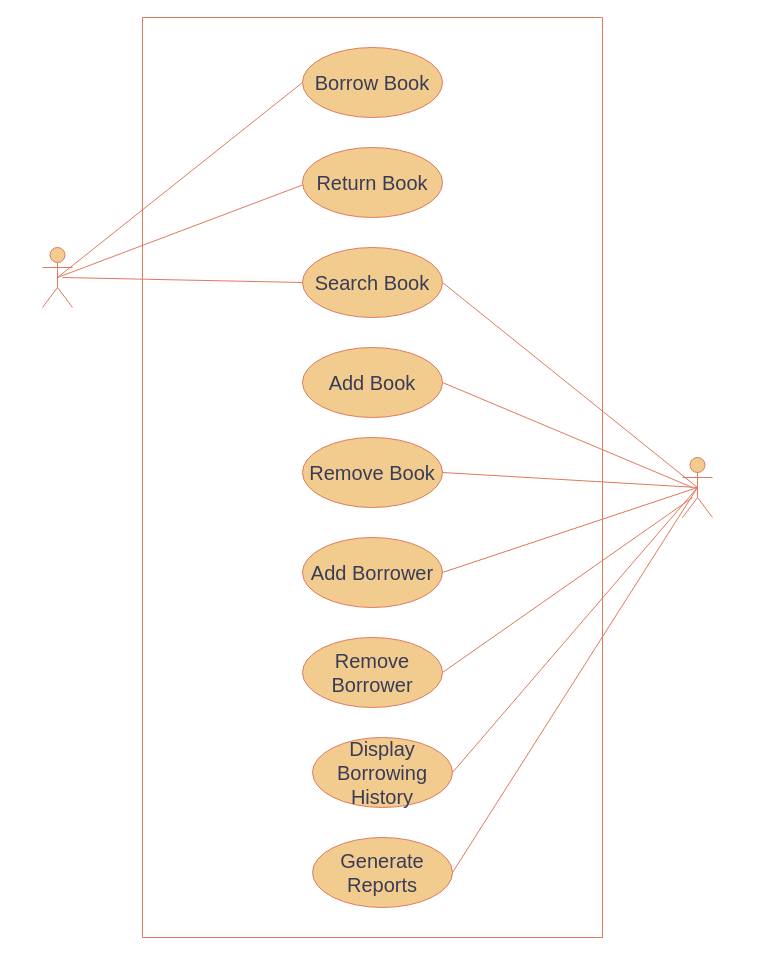
Some shapes in this 774 by 955 pixel diagram are drawn without their labels. Each missing label, with the box of its shape:
Administrator (Librarian): (682, 456, 712, 518)
Borrower: (42, 246, 72, 308)
